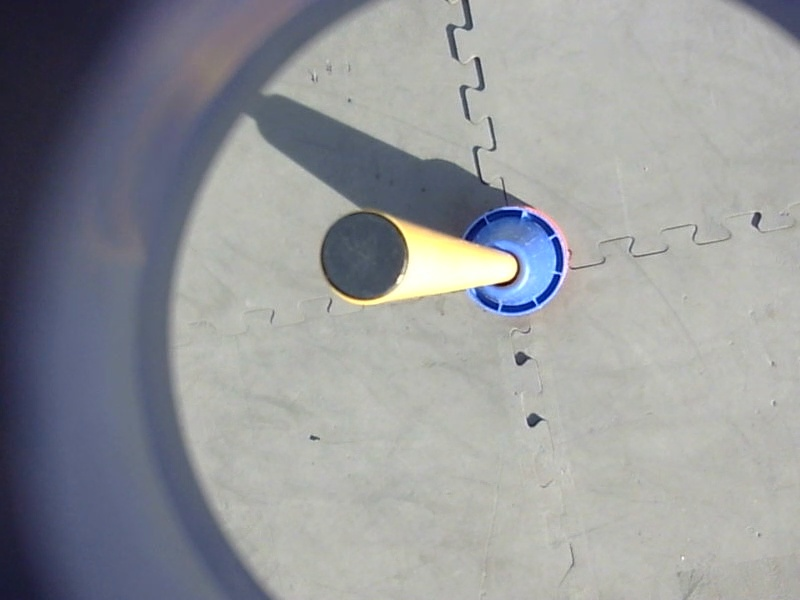tip: (314, 206, 413, 306)
